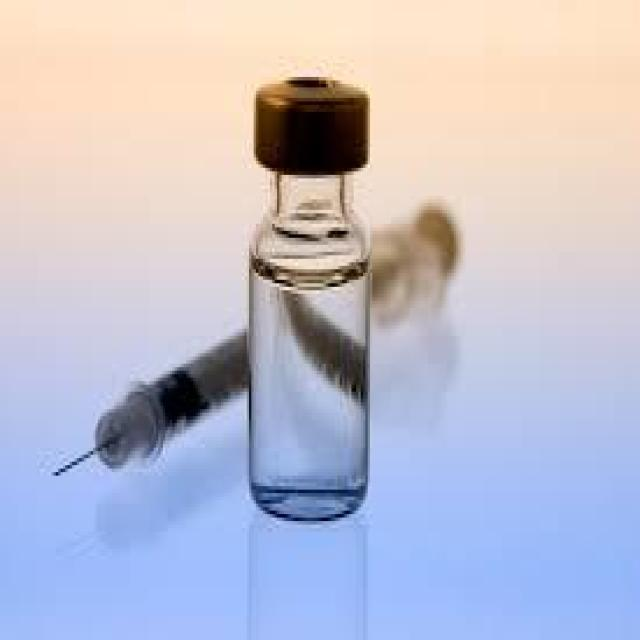B3: (242, 63, 389, 535)
